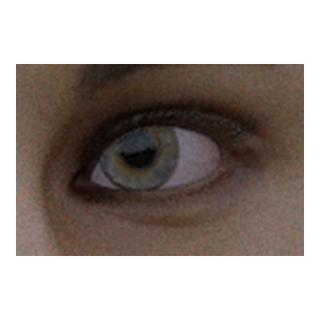pupil: (121, 133, 155, 167)
